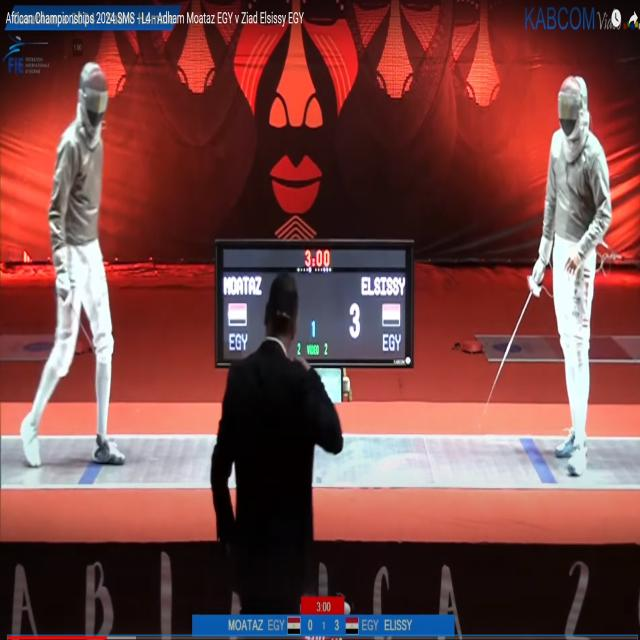fencer: (35, 70, 143, 483), (544, 65, 614, 485)
overlayLeft: (192, 614, 303, 637)
overlayRight: (346, 614, 454, 635)
scoreLeft: (303, 618, 317, 636)
scoreRight: (330, 614, 346, 638)
